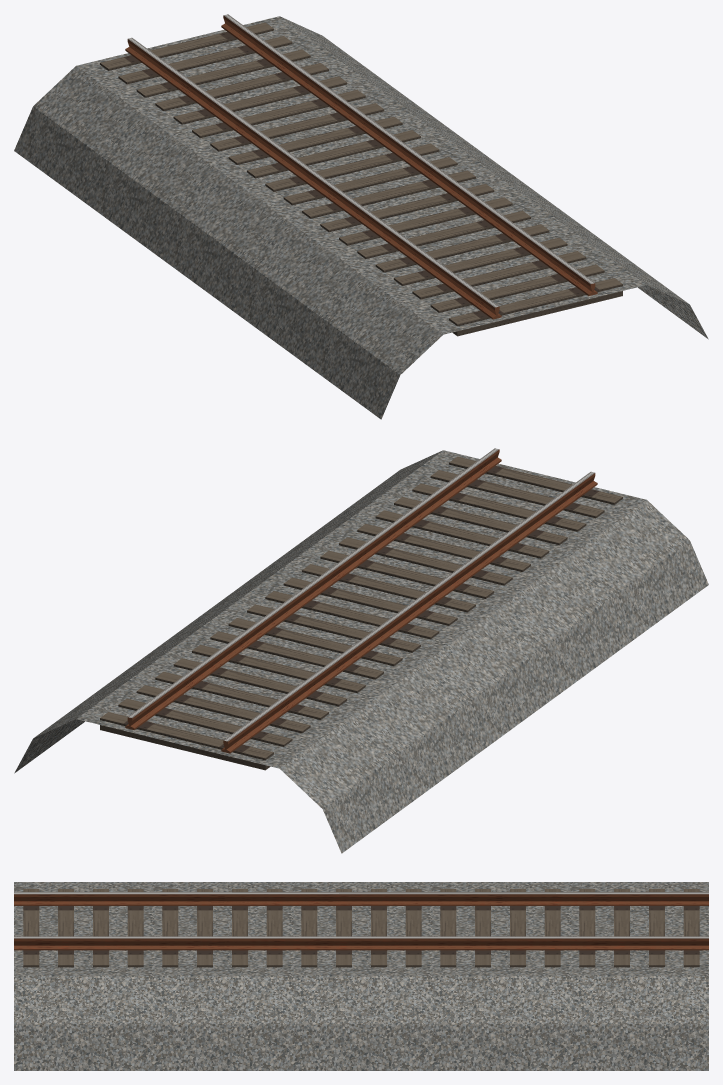
The model's file is rail_track_straight_10m_v2.glb.
3 views of the same model, one above another, from view 1: azimuth 30°, elevation 25°; view 2: azimuth 150°, elevation 25°; view 3: azimuth 270°, elevation 25° (orthographic). The views are drawn at different scales.
Visible parts, largest first — view 1: rail_track_straight_10m_v2; view 2: rail_track_straight_10m_v2; view 3: rail_track_straight_10m_v2.
Boxes of the visible parts, x1=… form: rail_track_straight_10m_v2: x1=14, y1=14, x2=708, y2=419; rail_track_straight_10m_v2: x1=14, y1=448, x2=708, y2=853; rail_track_straight_10m_v2: x1=14, y1=882, x2=708, y2=1070.
Size of what is drawn, in the model's own units: 5.15 by 1.27 by 10.
2 materials, 2 textured.
